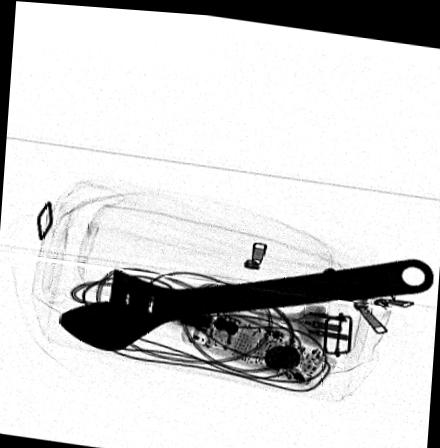Wrench: (56, 251, 434, 349)
